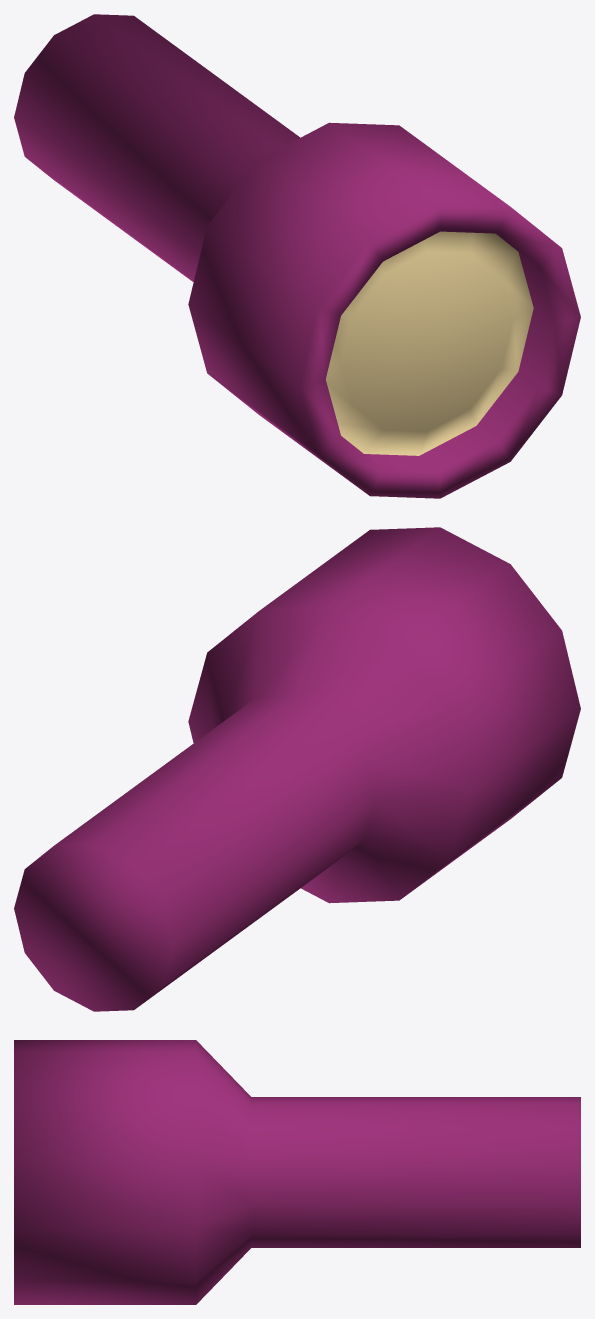
The model's file is flashlight.glb.
3 views of the same model, one above another, from view 1: azimuth 30°, elevation 25°; view 2: azimuth 150°, elevation 25°; view 3: azimuth 270°, elevation 25° (orthographic). The views are drawn at different scales.
Parts seen in each view (by area): view 1: Sphere.001; view 2: Sphere.001; view 3: Sphere.001.
Boxes of the visible parts, box(x1,y1,x2,y2) form: Sphere.001: box(14, 14, 580, 498); Sphere.001: box(14, 527, 580, 1011); Sphere.001: box(14, 1040, 580, 1304).
Bounding box in the file's own units: 0.9145 × 0.9145 × 1.95.
